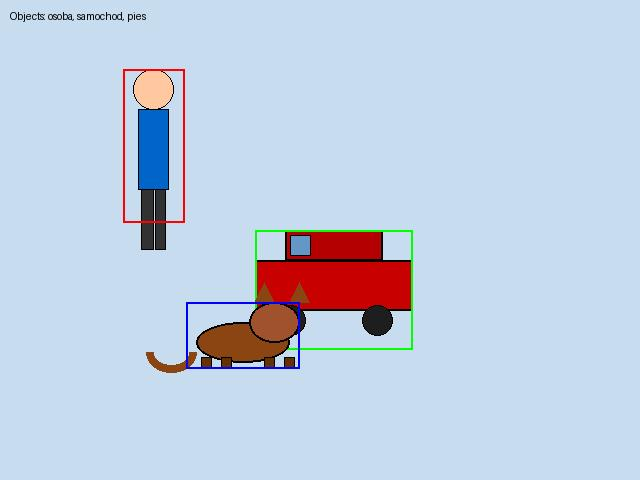osoba: (123, 69, 184, 222)
pies: (186, 302, 299, 368)
samochod: (255, 230, 412, 349)
